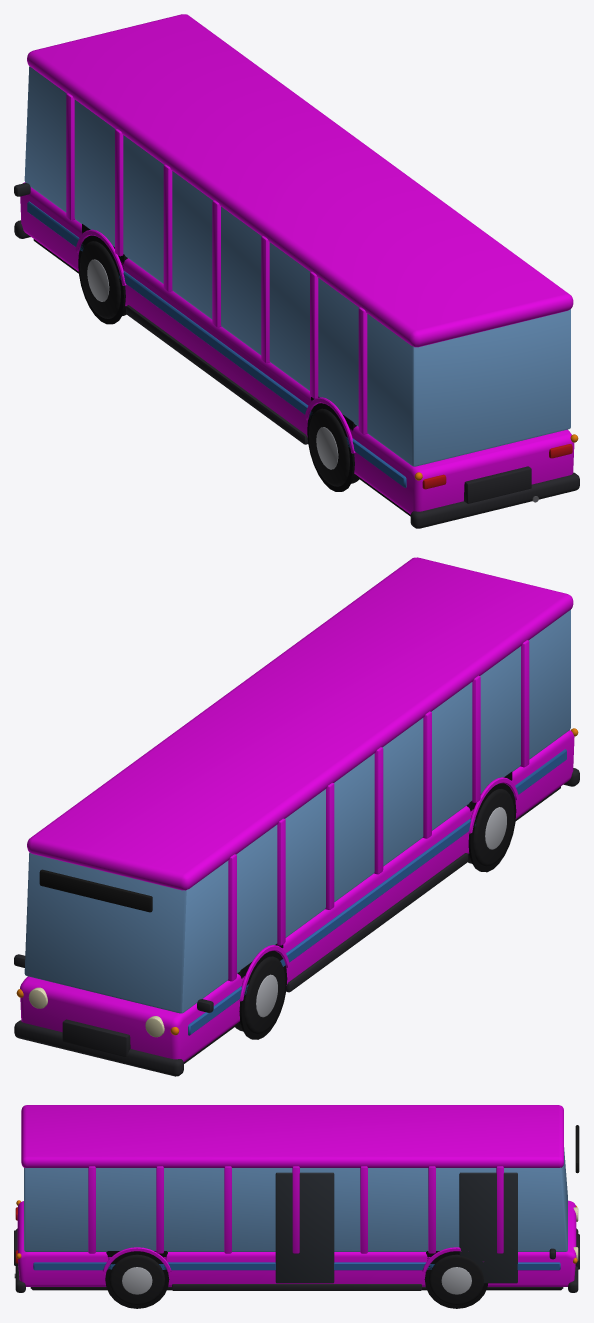
Rendered from MetroBus.fbx.
3 views of the same model, one above another, from view 1: azimuth 30°, elevation 25°; view 2: azimuth 150°, elevation 25°; view 3: azimuth 270°, elevation 25° (orthographic). The views are drawn at different scales.
Parts seen in each view (by area): view 1: MetroBus; view 2: MetroBus; view 3: MetroBus.
Boxes of the visible parts, x1,y1,x2,y2 form: MetroBus: (14, 14, 579, 528); MetroBus: (14, 557, 579, 1076); MetroBus: (14, 1105, 579, 1308).
Bounding box in the file's own units: 2.99 × 3.11 × 10.63.
